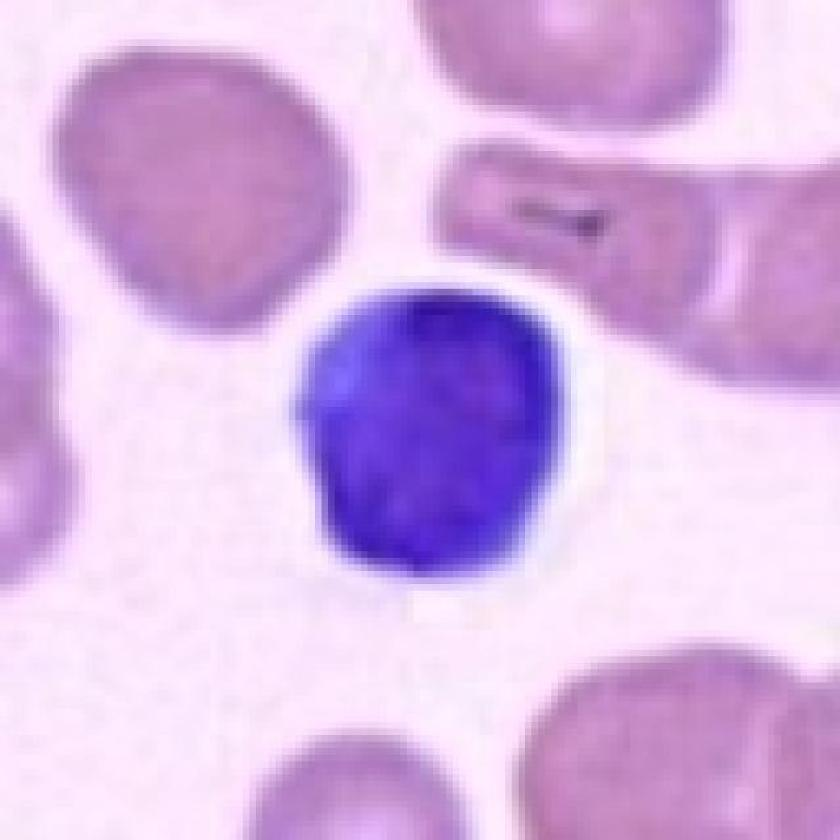lymphocyte: (289, 279, 588, 588)
